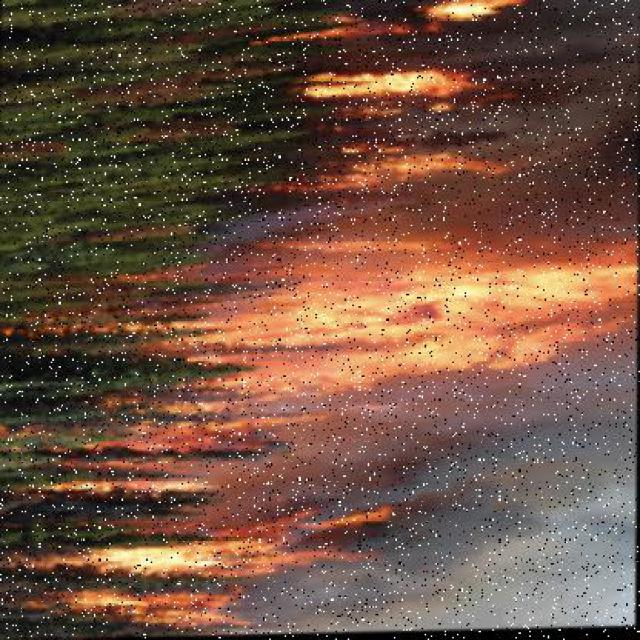fire: (171, 1, 631, 420)
